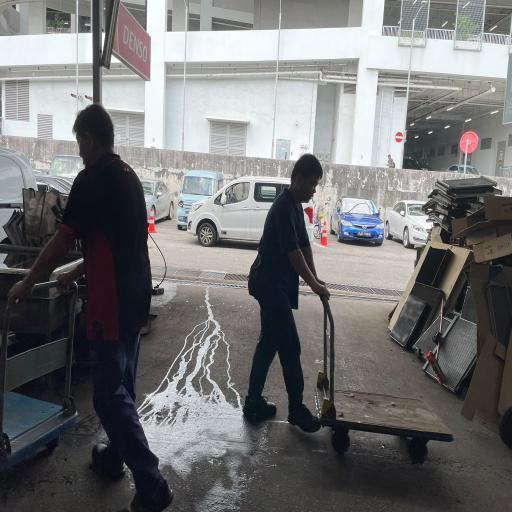person_left: (0, 102, 182, 498)
person_right: (241, 135, 455, 461)
